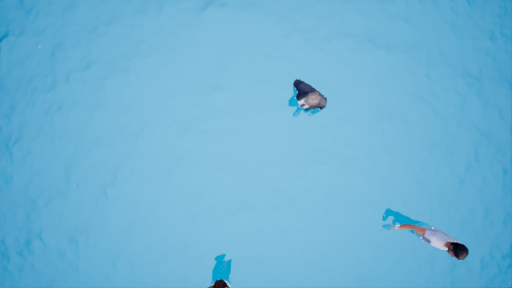person: (377, 196, 477, 264), (285, 73, 330, 120), (196, 253, 240, 288)
